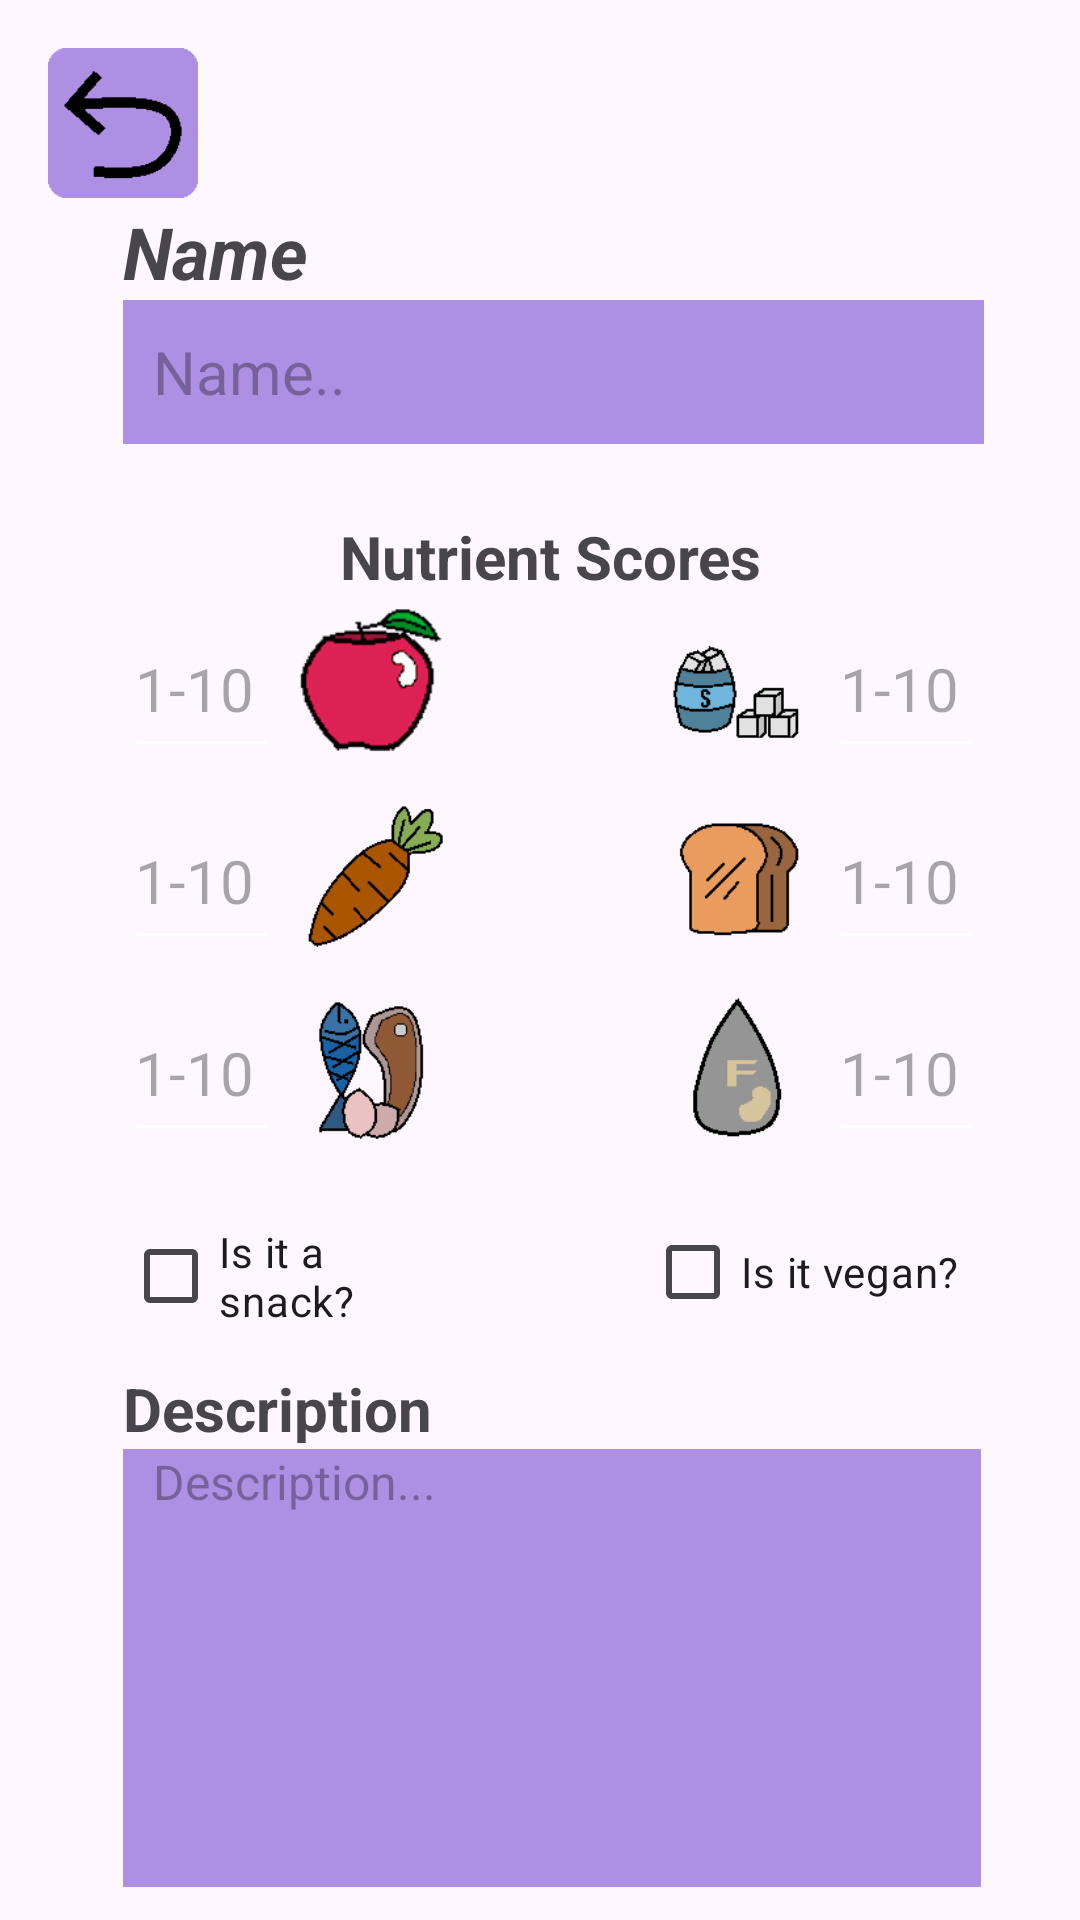

Screen size 1080px×1920px. Icon name, then its box in pixels as (x1, y1, x2, y2):
carb: (680, 823, 799, 936)
fat: (693, 998, 782, 1137)
fruit: (300, 609, 442, 751)
protein: (319, 1002, 424, 1139)
Return to main screen: (48, 48, 198, 198)
sugar: (673, 645, 799, 738)
vegetable: (308, 806, 443, 947)
